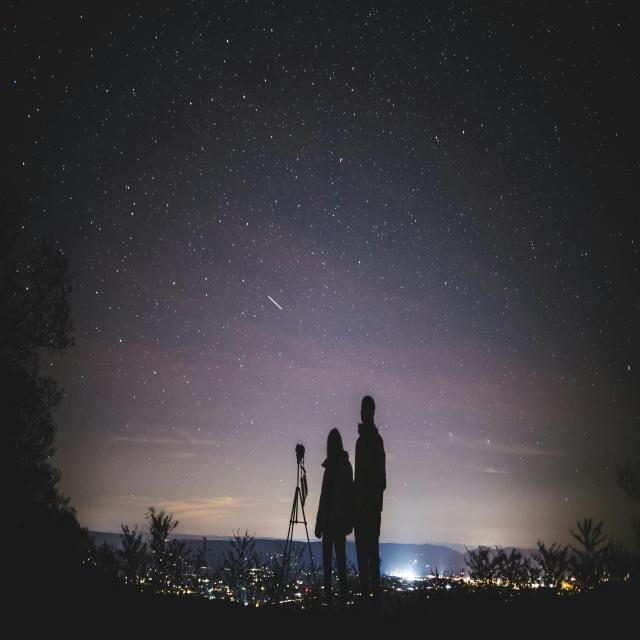stand: (312, 408, 358, 616), (351, 394, 394, 595)
